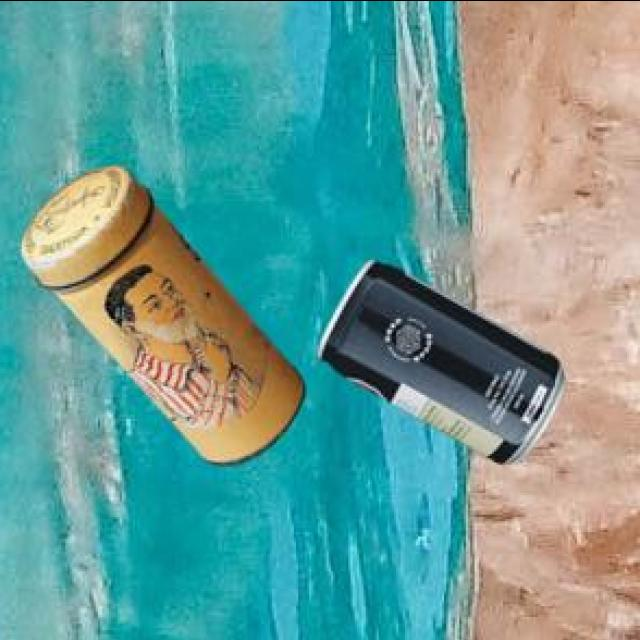logam: (25, 164, 308, 460), (321, 256, 567, 460)
